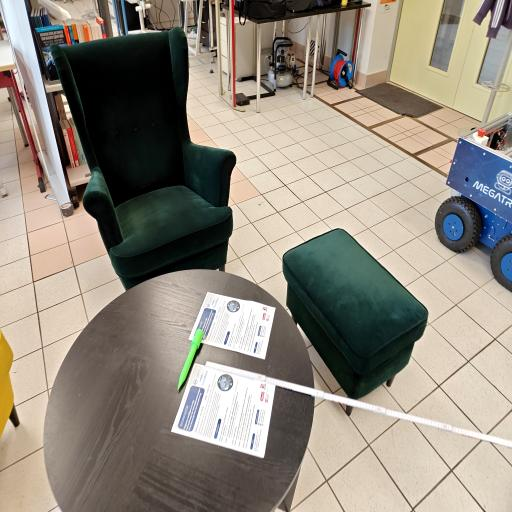Probe-Detection: (178, 329, 204, 389)
